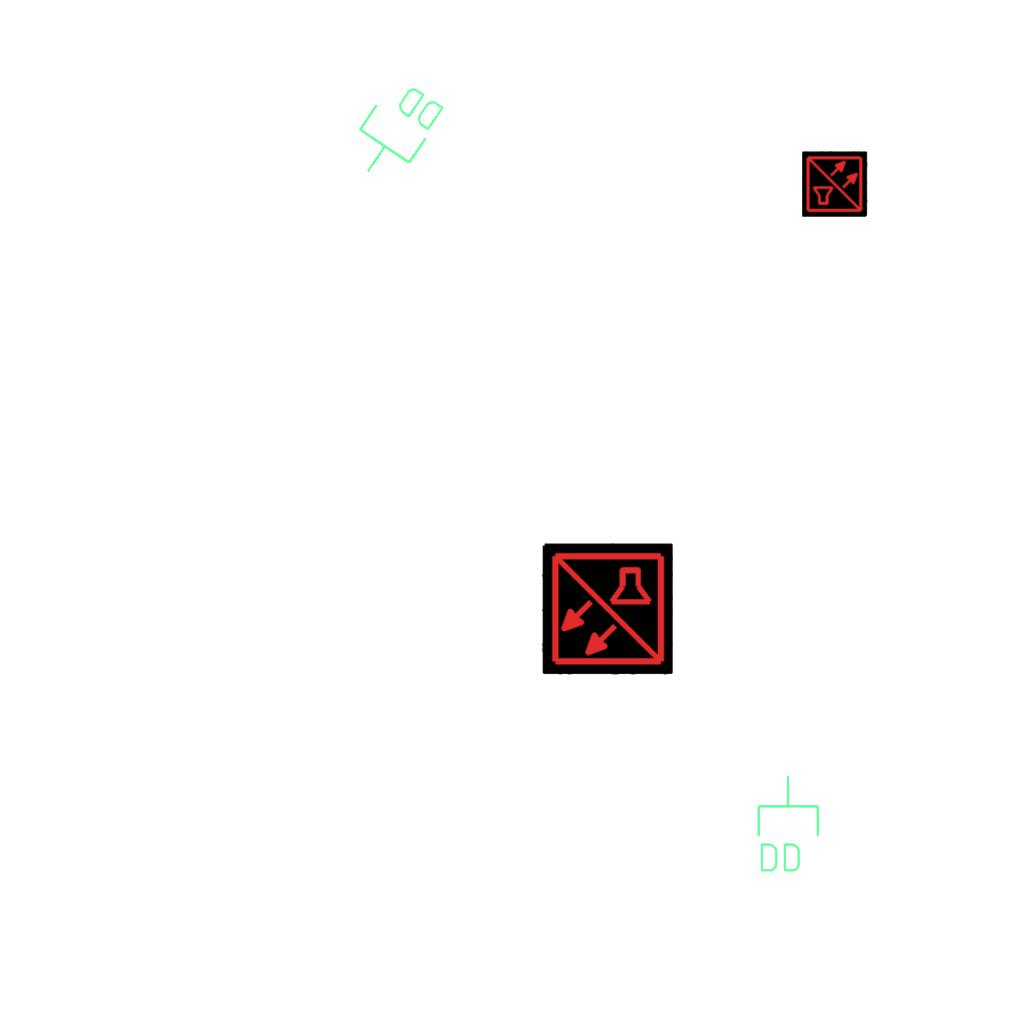Datenanschluss_zweifach: (338, 69, 453, 194), (753, 773, 822, 876)
OKW_Multisensormelder_(Kombination_optischer_Rauch-Kahlenmonoxid_Waerme-Melder): (541, 543, 673, 675), (802, 151, 868, 217)
